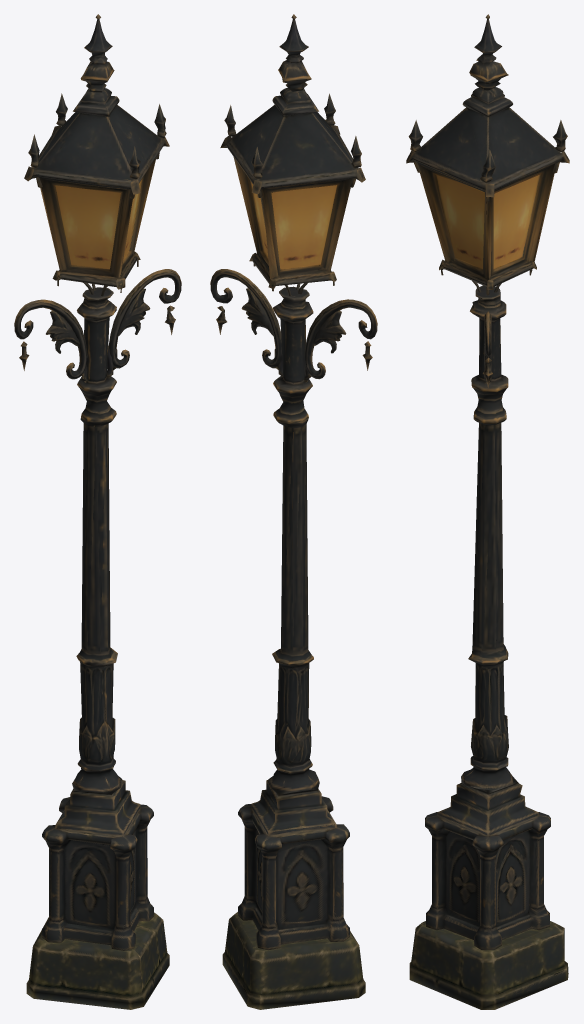
Rendered from Lantern.glb.
3 views of the same model, side by side, from view 1: azimuth 30°, elevation 25°; view 2: azimuth 150°, elevation 25°; view 3: azimuth 270°, elevation 25° (orthographic).
Visible parts, largest first — view 1: Lantern; view 2: Lantern; view 3: Lantern.
Boxes of the visible parts, bbox=[...] form: Lantern: bbox=[14, 14, 181, 1009]; Lantern: bbox=[210, 14, 377, 1009]; Lantern: bbox=[406, 14, 569, 1009].
Bounding box in the file's own units: 0.1724 × 0.9502 × 0.146.
Materials: 1 (1 with a texture image).
